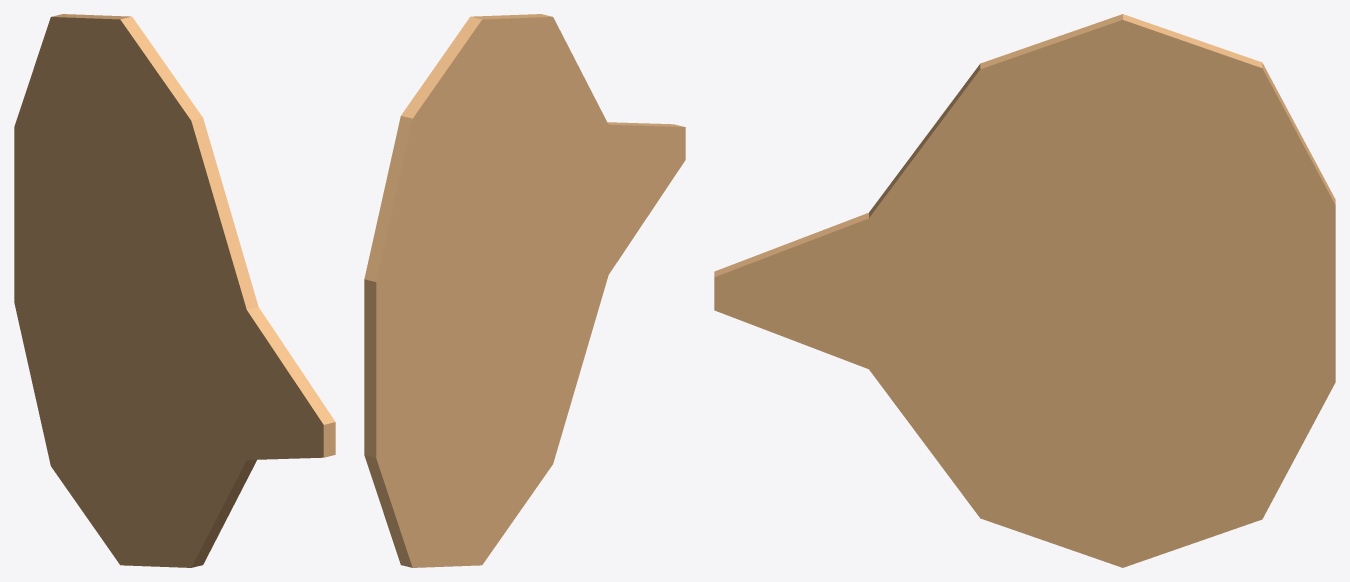
The model's file is onionHalfInside.obj.
3 renders of one model, left to right at view 1: azimuth 30°, elevation 25°; view 2: azimuth 150°, elevation 25°; view 3: azimuth 270°, elevation 25°, orthographic.
Visible parts, largest first — view 1: onionHalf.002; view 2: onionHalf.002; view 3: onionHalf.002.
Part boxes in pixels (bbox=[...]): onionHalf.002: bbox=[14, 14, 335, 567]; onionHalf.002: bbox=[364, 14, 685, 567]; onionHalf.002: bbox=[714, 14, 1335, 567].
Bounding box in the file's own units: 0.00492 × 0.2163 × 0.2223.
